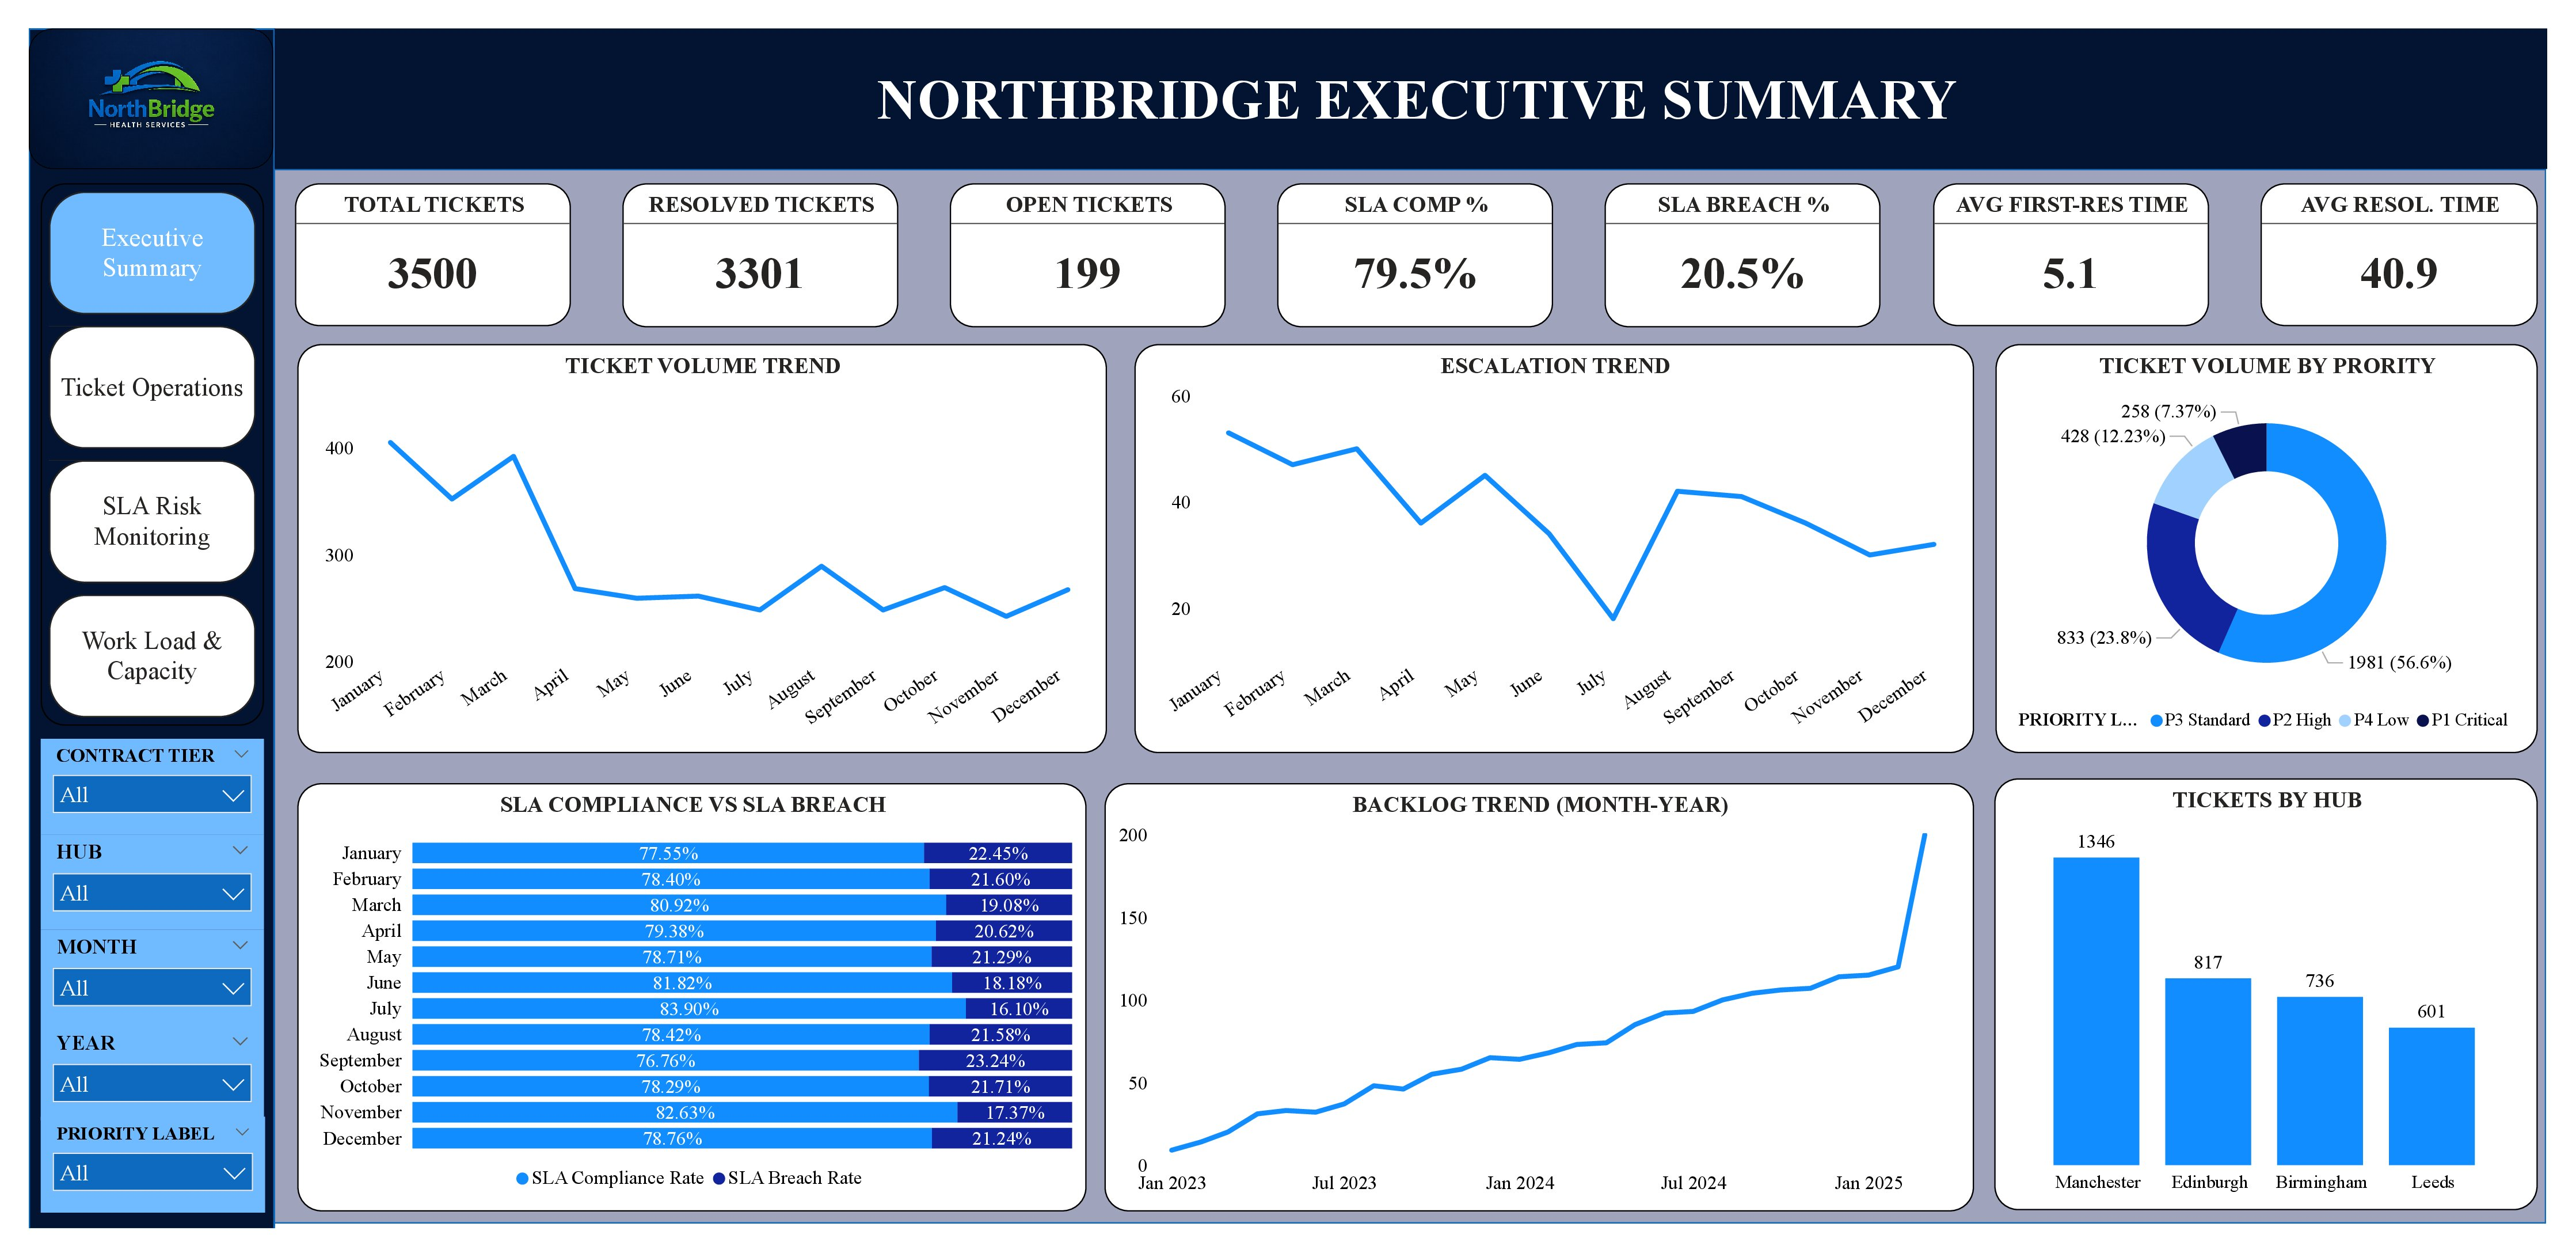

This screenshot's page, from the dashboard's own definition file:
{"tool":"powerbi","page":{"name":"Executive Summary","canvas":[2100,1000],"ordinal":0},"visuals":[{"type":"shape","box":[203.7,116.8,1895.5,879.4],"z":0},{"type":"shape","box":[0,0,204.7,1000.8],"z":1000},{"type":"shape","title":"N","box":[204.7,0,1895.8,116.9],"z":2000},{"type":"cardVisual","title":"TOTAL TICKETS","fields":{"Data":["FCT_TICKETS.Total Tickets (Ticket Volume)"]},"box":[221.8,128.5,230,119.1],"z":3000},{"type":"cardVisual","title":"RESOLVED TICKETS","fields":{"Data":["FCT_TICKETS.Resolved Tickets"]},"box":[495,128.5,230,120],"z":4000},{"type":"cardVisual","title":"OPEN TICKETS","fields":{"Data":["FCT_TICKETS.Open Tickets (Backlog Volume)"]},"box":[768.1,128.5,230,120],"z":5000},{"type":"cardVisual","title":"SLA COMP %","fields":{"Data":["FCT_TICKETS.SLA Compliance Rate"]},"box":[1041.3,128.5,230,120],"z":6000},{"type":"cardVisual","title":"SLA BREACH %","fields":{"Data":["FCT_TICKETS.SLA Breach Rate"]},"box":[1314.4,128.5,230,120],"z":7000},{"type":"cardVisual","title":"AVG FIRST-RES TIME","fields":{"Data":["FCT_TICKETS.Average First Response Time(hrs)"]},"box":[1587.6,128.5,230,119.1],"z":8000},{"type":"cardVisual","title":"AVG RESOL. TIME","fields":{"Data":["FCT_TICKETS.Average Resolution Time(hrs)"]},"box":[1860.7,129.2,231,119.2],"z":9000},{"type":"lineChart","title":"TICKET VOLUME TREND","fields":{"Y":["FCT_TICKETS.Total Tickets (Ticket Volume)"],"Category":["DIM_DATE.DATE_KEY.Variation.Date Hierarchy.Year","DIM_DATE.DATE_KEY.Variation.Date Hierarchy.Quarter","DIM_DATE.DATE_KEY.Variation.Date Hierarchy.Month","DIM_DATE.DATE_KEY.Variation.Date Hierarchy.Day"]},"box":[223.6,263.3,675.7,340.3],"z":10000},{"type":"hundredPercentStackedBarChart","title":"SLA COMPLIANCE VS SLA BREACH","fields":{"Category":["DIM_DATE.DATE_KEY.Variation.Date Hierarchy.Month"],"Y":["FCT_TICKETS.SLA Compliance Rate","FCT_TICKETS.SLA Breach Rate"]},"box":[223.6,628.5,658.3,357.7],"z":11000},{"type":"donutChart","title":"TICKET VOLUME BY PRORITY","fields":{"Y":["FCT_TICKETS.Total Tickets (Ticket Volume)"],"Category":["DIM_PRIORITY.PRIORITY_LABEL"]},"box":[1639.6,263.3,452.1,340.3],"z":12000},{"type":"image","box":[0,0,203.7,116.8],"z":13000},{"type":"lineChart","title":"ESCALATION TREND","fields":{"Category":["DIM_DATE.DATE_KEY.Variation.Date Hierarchy.Month"],"Y":["FCT_ESCALATIONS.Total Escalations"]},"box":[921.7,263.3,700.6,340.3],"z":14000},{"type":"pageNavigator","box":[9.9,129.2,186.3,452.1],"z":15000},{"type":"lineChart","title":"BACKLOG TREND (MONTH-YEAR)","fields":{"Y":["FCT_TICKETS.Historical Backlog"],"Category":["DIM_DATE.YEAR_MONTH.Variation.Date Hierarchy.Year","DIM_DATE.YEAR_MONTH.Variation.Date Hierarchy.Month"]},"box":[896.8,628.5,725.4,357.7],"z":16000},{"type":"clusteredColumnChart","title":"TICKETS BY HUB","fields":{"Category":["DIM_AGENTS.HUB"],"Y":["FCT_TICKETS.Total Tickets (Ticket Volume)"]},"box":[1639.5,625.2,452,359.8],"z":17000},{"type":"slicer","fields":{"Values":["DIM_DATE.YEAR_MONTH.Variation.Date Hierarchy.Year"]},"box":[9.9,830.6,186.3,79.5],"z":18000},{"type":"slicer","fields":{"Values":["DIM_DATE.YEAR_MONTH.Variation.Date Hierarchy.Month"]},"box":[9.9,751.1,186.3,79.5],"z":19000},{"type":"slicer","fields":{"Values":["DIM_AGENTS.HUB"]},"box":[9.9,671.6,186.3,79.5],"z":20000},{"type":"slicer","fields":{"Values":["FCT_TICKETS.CONTRACT_TIER"]},"box":[9.9,592.1,186.3,79.5],"z":21000},{"type":"slicer","fields":{"Values":["DIM_PRIORITY.PRIORITY_LABEL"]},"box":[10.4,906.7,186.5,80.3],"z":22000}]}

Visuals, with their boxes on the page's 2100x1000 design canvas (x1, y1, x2, y2). These are canvas units, not pixel positions in the 2576x1257 screenshot, which may show the page scaled, cropped or inside an application window:
shape: x1=204 y1=117 x2=2099 y2=996
shape: x1=0 y1=0 x2=205 y2=1001
"N" shape: x1=205 y1=0 x2=2100 y2=117
"TOTAL TICKETS" cardVisual: x1=222 y1=128 x2=452 y2=248
"RESOLVED TICKETS" cardVisual: x1=495 y1=128 x2=725 y2=248
"OPEN TICKETS" cardVisual: x1=768 y1=128 x2=998 y2=248
"SLA COMP %" cardVisual: x1=1041 y1=128 x2=1271 y2=248
"SLA BREACH %" cardVisual: x1=1314 y1=128 x2=1544 y2=248
"AVG FIRST-RES TIME" cardVisual: x1=1588 y1=128 x2=1818 y2=248
"AVG RESOL. TIME" cardVisual: x1=1861 y1=129 x2=2092 y2=248
"TICKET VOLUME TREND" lineChart: x1=224 y1=263 x2=899 y2=604
"SLA COMPLIANCE VS SLA BREACH" hundredPercentStackedBarChart: x1=224 y1=628 x2=882 y2=986
"TICKET VOLUME BY PRORITY" donutChart: x1=1640 y1=263 x2=2092 y2=604
image: x1=0 y1=0 x2=204 y2=117
"ESCALATION TREND" lineChart: x1=922 y1=263 x2=1622 y2=604
pageNavigator: x1=10 y1=129 x2=196 y2=581
"BACKLOG TREND (MONTH-YEAR)" lineChart: x1=897 y1=628 x2=1622 y2=986
"TICKETS BY HUB" clusteredColumnChart: x1=1640 y1=625 x2=2092 y2=985
slicer - DIM_DATE.YEAR_MONTH.Variation.Date Hierarchy.Year: x1=10 y1=831 x2=196 y2=910
slicer - DIM_DATE.YEAR_MONTH.Variation.Date Hierarchy.Month: x1=10 y1=751 x2=196 y2=831
slicer - DIM_AGENTS.HUB: x1=10 y1=672 x2=196 y2=751
slicer - FCT_TICKETS.CONTRACT_TIER: x1=10 y1=592 x2=196 y2=672
slicer - DIM_PRIORITY.PRIORITY_LABEL: x1=10 y1=907 x2=197 y2=987
